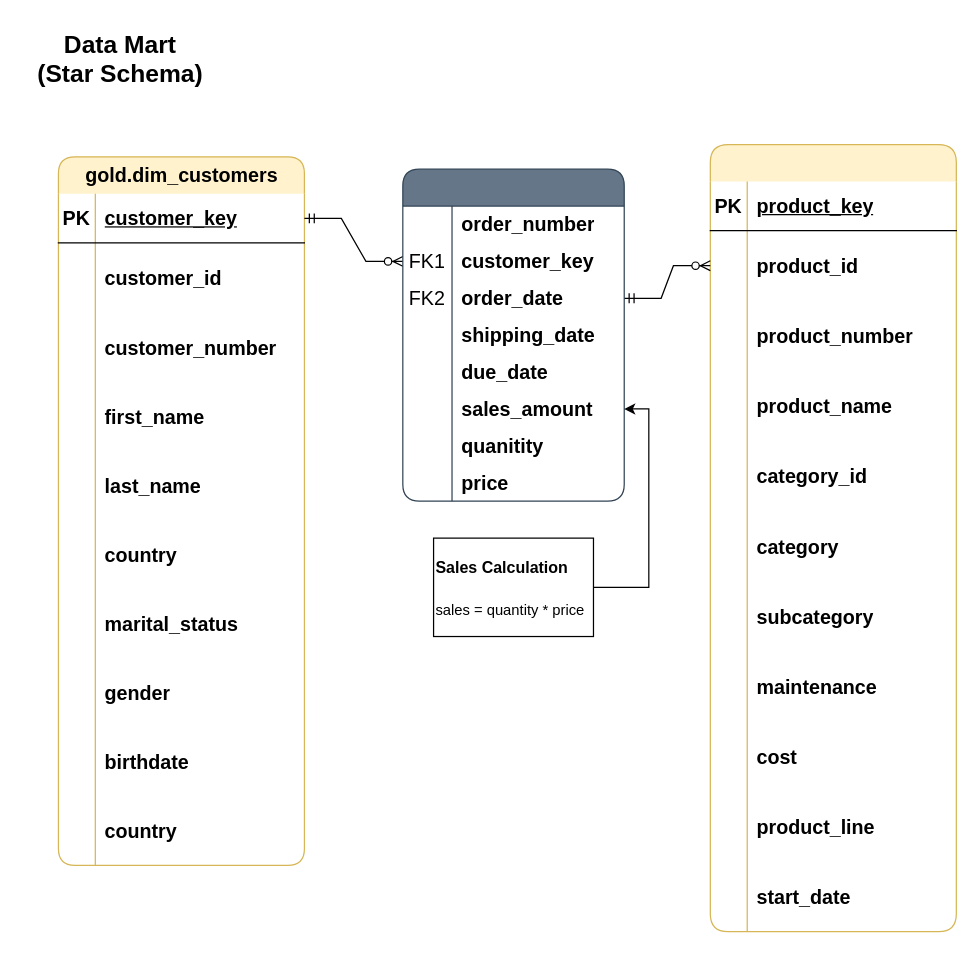
Image size: 978x953. Some labels were removed from this diagram. Each missing label, with the box of its shape:
gold.dim_products: (709, 143, 956, 932)
gold.dim_sales: (402, 168, 624, 501)
